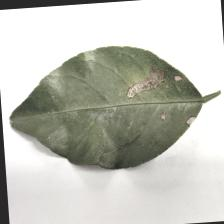canker: (126, 64, 200, 130)
